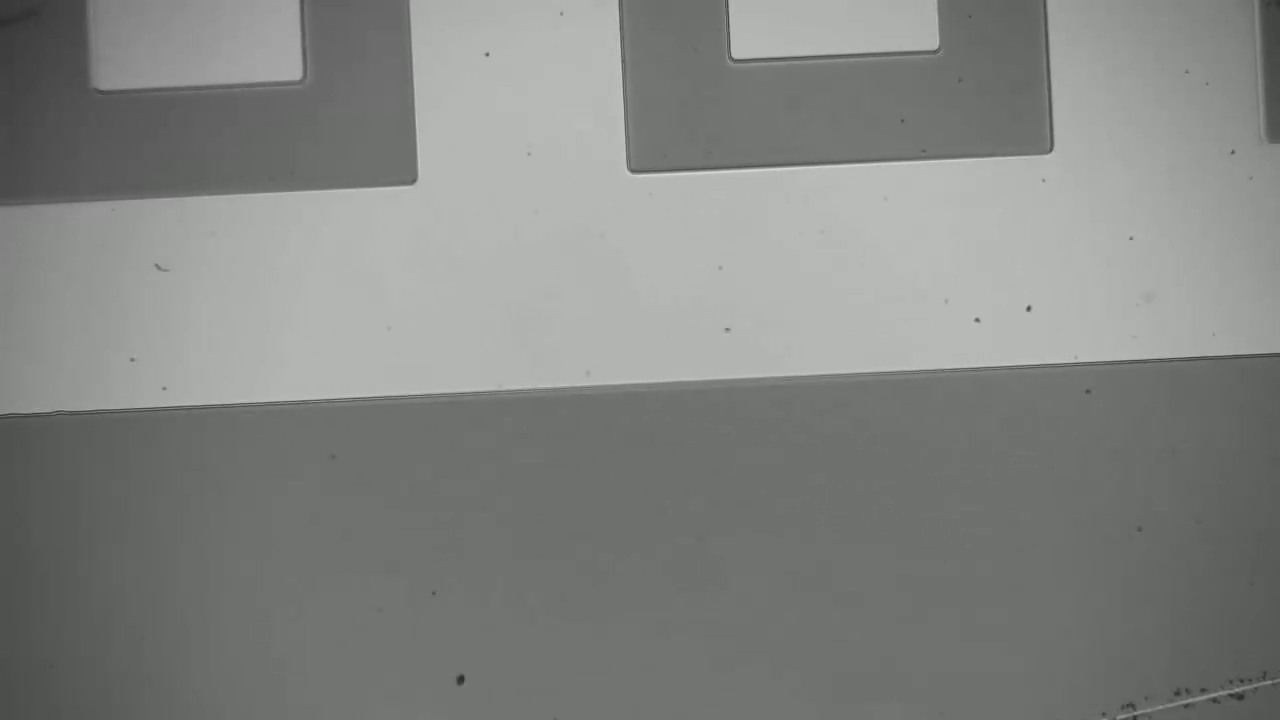scratch: (1118, 676, 1280, 717)
